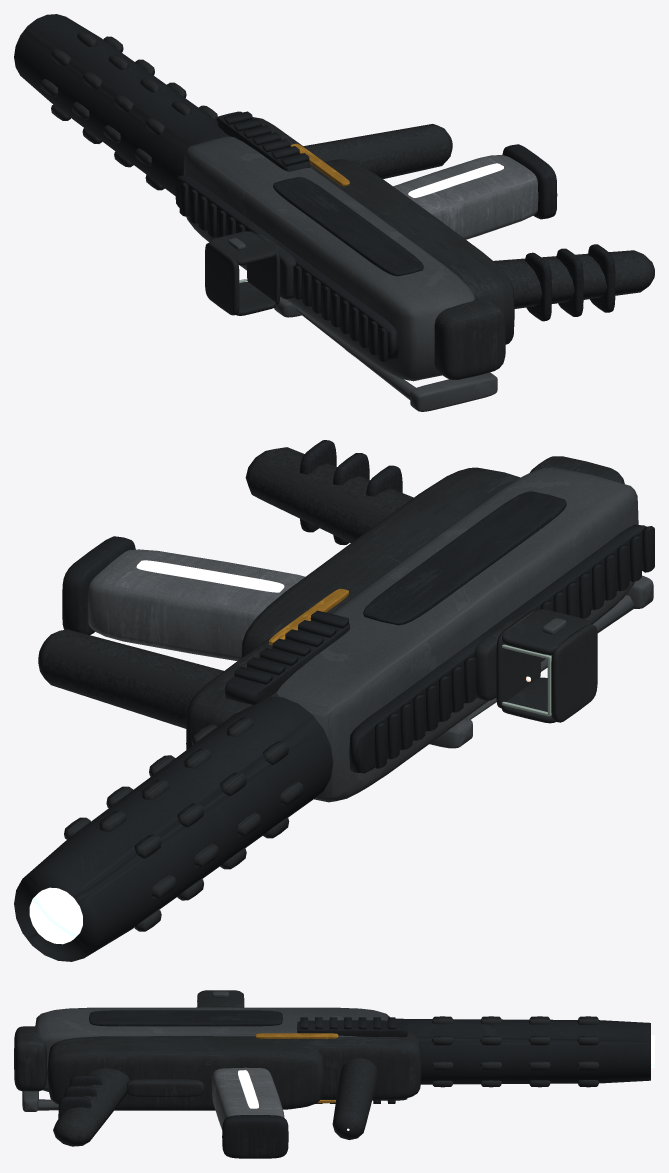
Rendered from kv5_world.glb.
3 views of the same model, one above another, from view 1: azimuth 30°, elevation 25°; view 2: azimuth 150°, elevation 25°; view 3: azimuth 270°, elevation 25° (orthographic). The views are drawn at different scales.
Visible parts, largest first — view 1: kv5_world; view 2: kv5_world; view 3: kv5_world.
Part boxes in pixels (x1,y1,x2,y2): kv5_world: [14, 14, 654, 411]; kv5_world: [14, 440, 654, 961]; kv5_world: [14, 990, 654, 1158].
Bounding box in the file's own units: 0.2195 × 0.0691 × 0.462.
8 materials, 4 textured.
